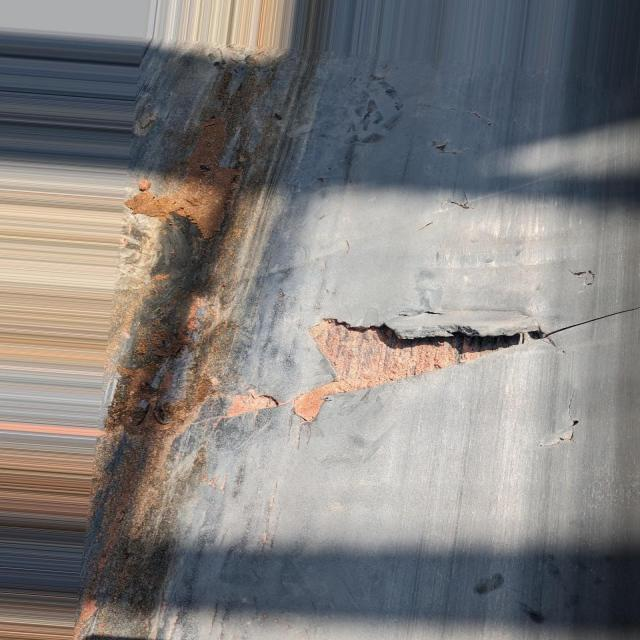Tear: (189, 298, 640, 437), (540, 407, 583, 453), (423, 131, 464, 159), (464, 107, 500, 126), (568, 264, 598, 286), (439, 197, 479, 213)
